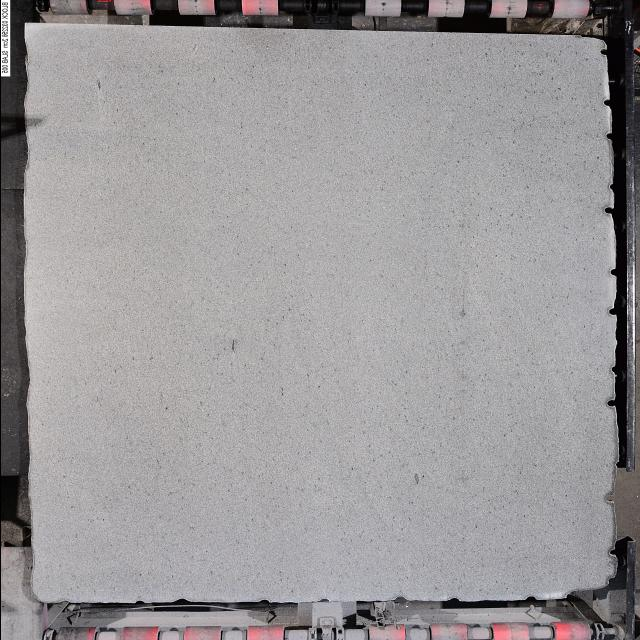chapa: (24, 24, 616, 601)
veio: (602, 492, 618, 504), (604, 397, 618, 409), (601, 206, 616, 216), (601, 98, 615, 108), (606, 548, 620, 558), (598, 47, 610, 57), (604, 131, 616, 141), (606, 306, 618, 316), (608, 267, 618, 278)
